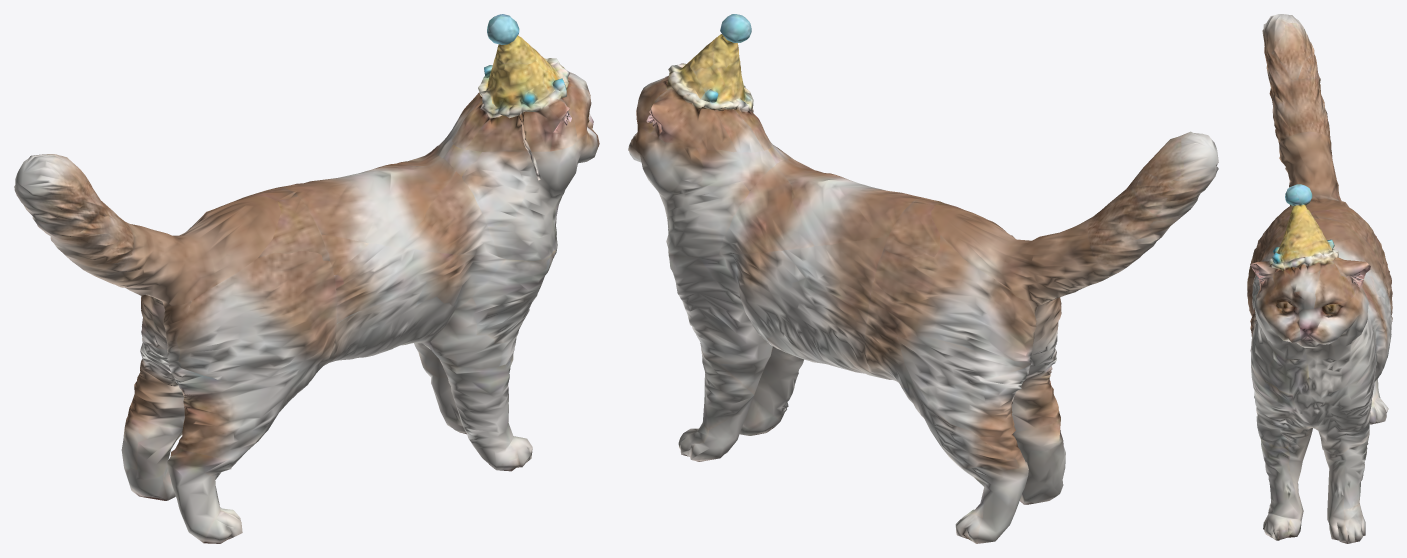
The model's file is HOICHAN-lo.glb.
3 views of the same model, side by side, from view 1: azimuth 30°, elevation 25°; view 2: azimuth 150°, elevation 25°; view 3: azimuth 270°, elevation 25° (orthographic). The views are drawn at different scales.
Parts seen in each view (by area): view 1: tripo_node_4b0c2379-7976-472d-91b7-7c4e765e8411; view 2: tripo_node_4b0c2379-7976-472d-91b7-7c4e765e8411; view 3: tripo_node_4b0c2379-7976-472d-91b7-7c4e765e8411.
Part boxes in pixels (x1,y1,x2,y2): tripo_node_4b0c2379-7976-472d-91b7-7c4e765e8411: (14,14,599,543); tripo_node_4b0c2379-7976-472d-91b7-7c4e765e8411: (628,14,1218,543); tripo_node_4b0c2379-7976-472d-91b7-7c4e765e8411: (1247,14,1392,543).
Bounding box in the file's own units: 1.4 × 0.9967 × 0.3733.
Materials: 1 (1 with a texture image).
